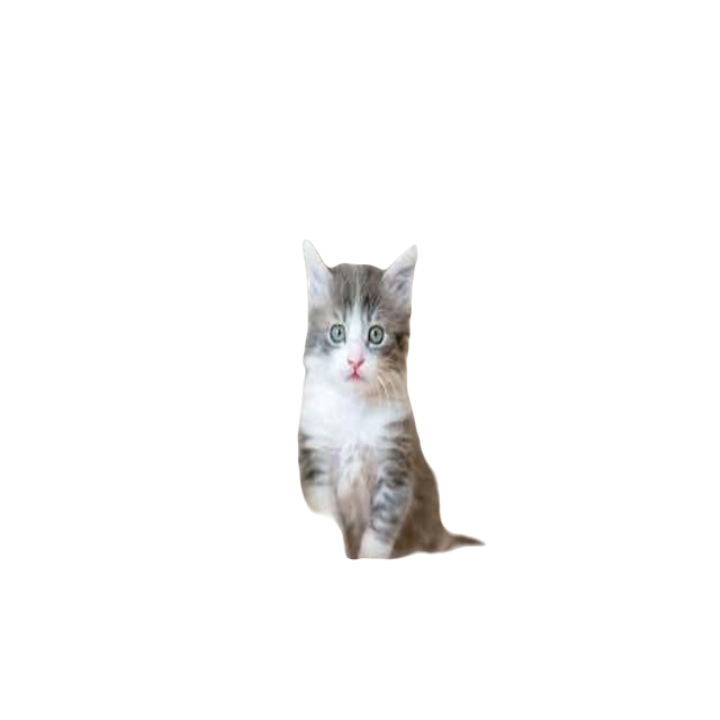Cat: (280, 241, 490, 560)
